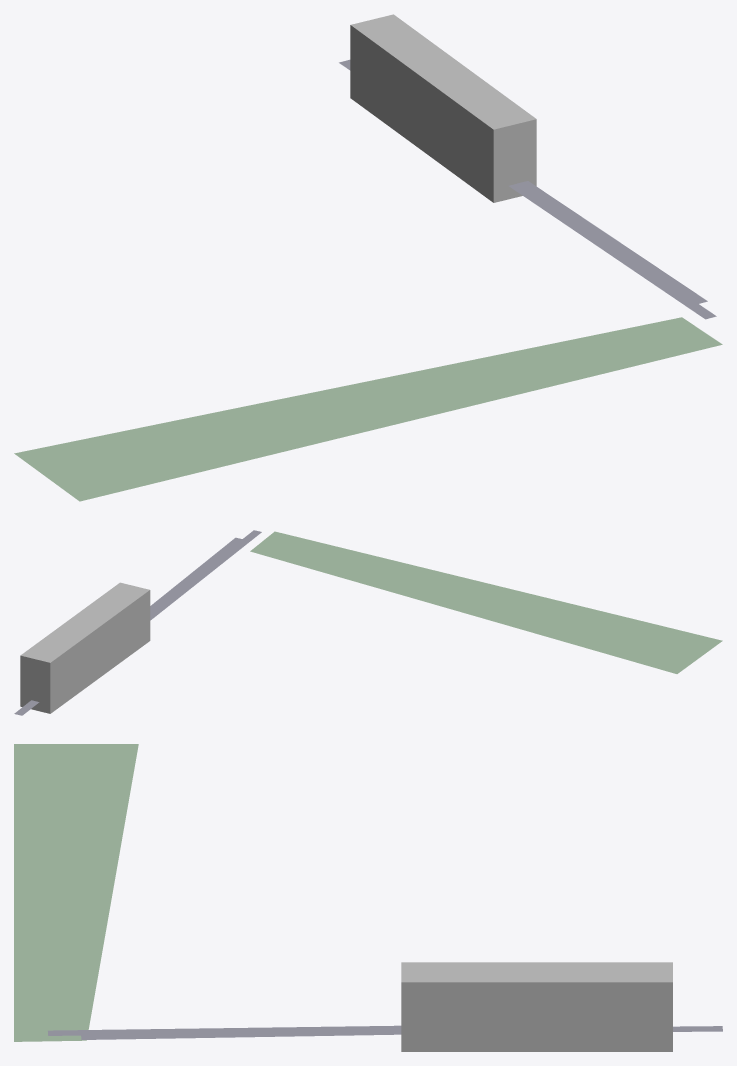
Rendered from 123_127_mid.glb.
3 renders of one model, top to bottom at view 1: azimuth 30°, elevation 25°; view 2: azimuth 150°, elevation 25°; view 3: azimuth 270°, elevation 25°, orthographic. The views are drawn at different scales.
Bounding box in the file's own units: 508 × 53.6 × 495.
